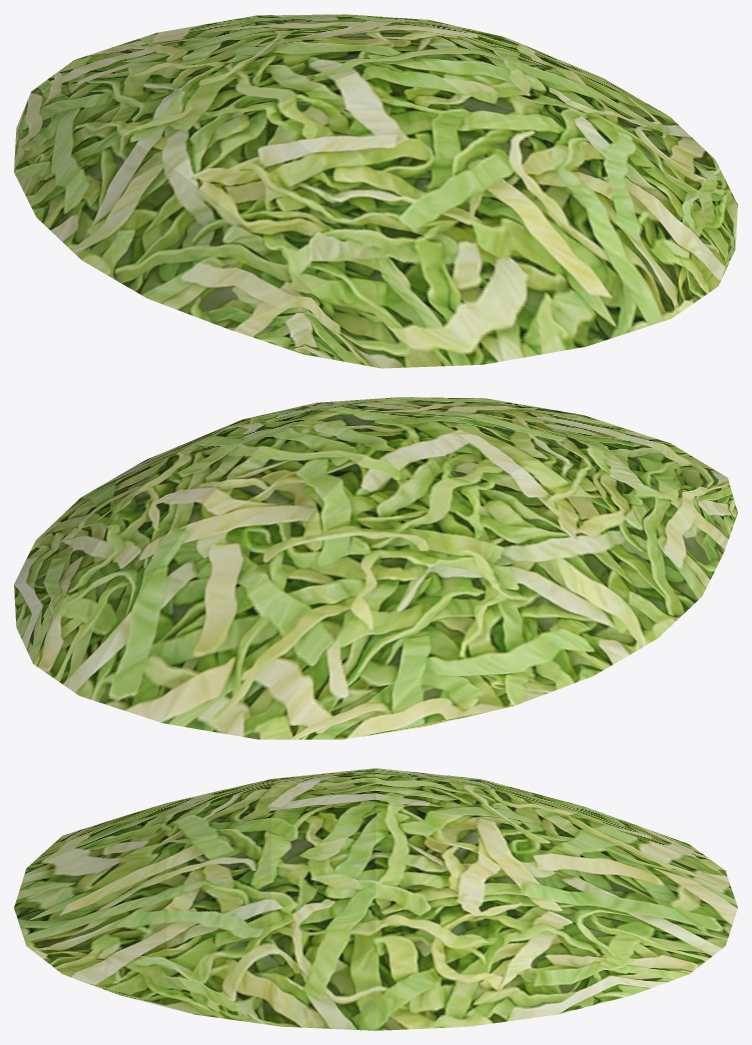
File: marul_dilimlenmis.fbx
3 views of the same model, one above another, from view 1: azimuth 30°, elevation 25°; view 2: azimuth 150°, elevation 25°; view 3: azimuth 270°, elevation 25° (orthographic). The views are drawn at different scales.
Visible parts, largest first — view 1: marul dilimlenmiş; view 2: marul dilimlenmiş; view 3: marul dilimlenmiş.
Boxes of the visible parts, x1,y1,x2,y2 form: marul dilimlenmiş: [14, 14, 737, 368]; marul dilimlenmiş: [14, 397, 737, 739]; marul dilimlenmiş: [14, 768, 737, 1030].
Bounding box in the file's own units: 34.35 × 6.9 × 43.39.
